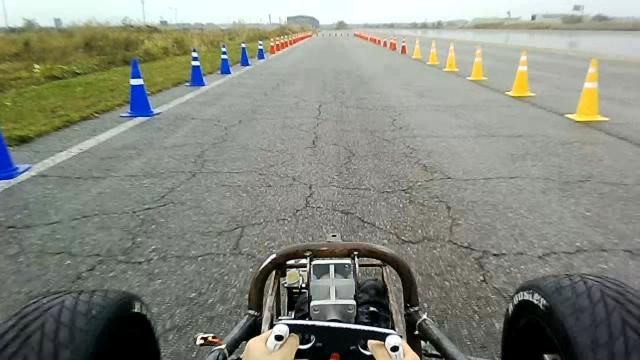blue cone: (119, 58, 161, 117), (184, 47, 206, 87), (218, 43, 232, 75), (239, 42, 251, 66), (256, 39, 266, 60)
yellow cone: (564, 57, 610, 122), (505, 50, 536, 97), (466, 45, 488, 81), (442, 41, 460, 72), (426, 39, 440, 65), (411, 38, 422, 59), (286, 268, 300, 284), (399, 36, 408, 55), (388, 35, 398, 51)
